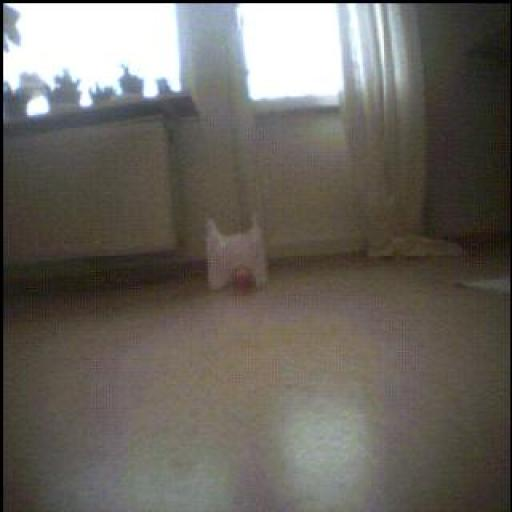Basket: (231, 267, 260, 295)
